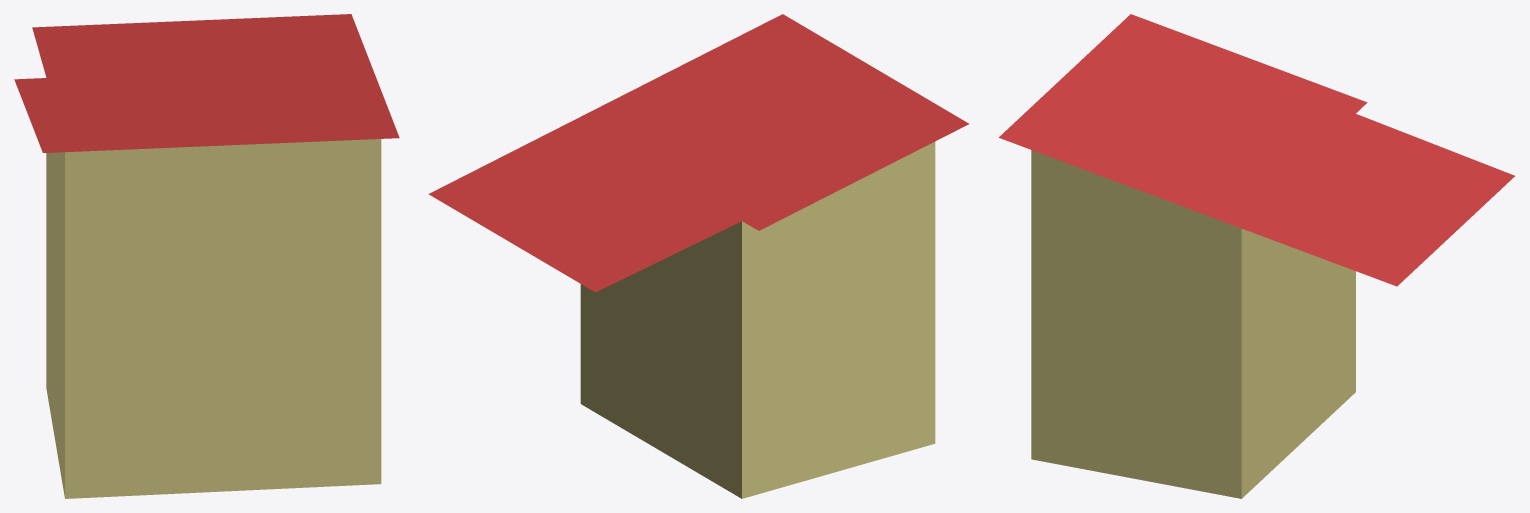
The picture shows the model from 3 angles, left to right: view 1: azimuth 30°, elevation 25°; view 2: azimuth 150°, elevation 25°; view 3: azimuth 270°, elevation 25°; orthographic projection. The views are drawn at different scales.
Size of the model in its own units: 8.37 by 9.15 by 6.28.
